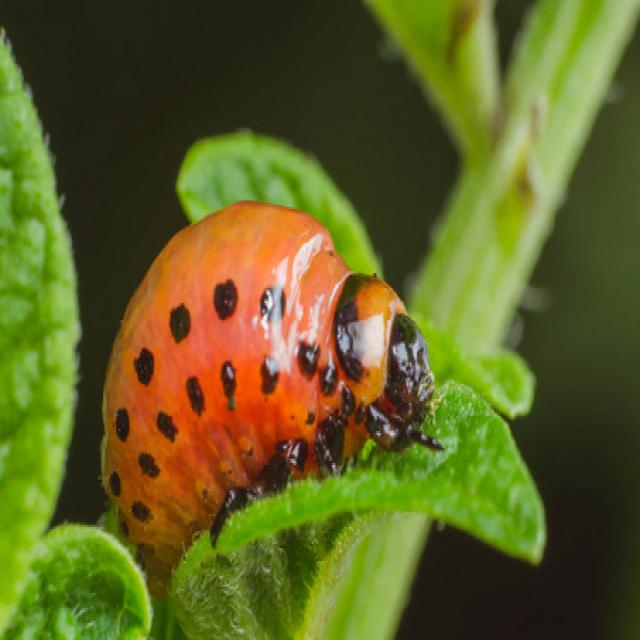ShuCaiHuaBanChong-Larva-: (113, 228, 461, 502)
